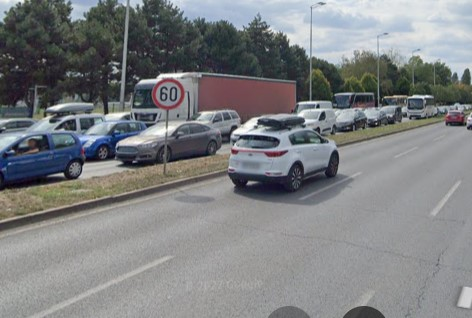Ograničenje brzine 60: (152, 79, 185, 110)
